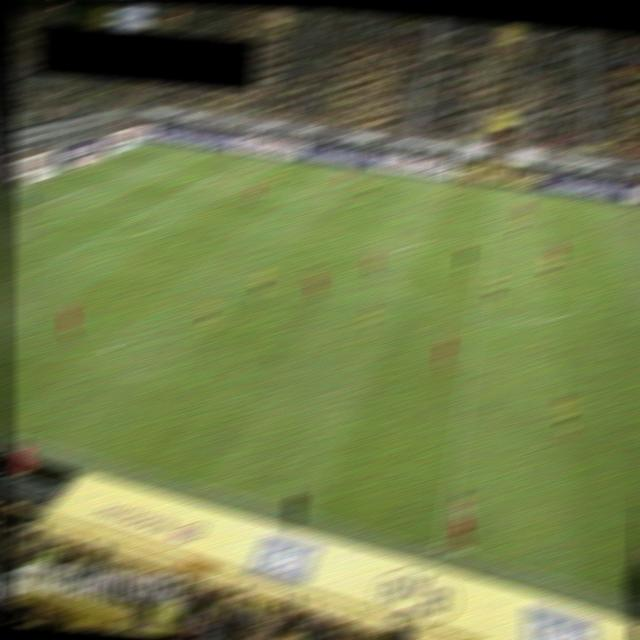bigarea_top_inner: (201, 172, 220, 183)
bigarea_top_outter: (92, 155, 111, 167)
bottom_arc_area_intersection: (81, 234, 102, 246)
corner: (142, 140, 161, 151)
halfcircle_bottom: (465, 311, 487, 325)
halfcircle_top: (476, 238, 499, 252)
midline_bottom_intersection: (427, 540, 456, 558)
midline_top_intersection: (484, 184, 507, 195)
smallarea_top_inner: (80, 181, 99, 192)
smallarea_top_outter: (40, 173, 60, 185)
top_arc_area_intersection: (155, 196, 174, 207)
